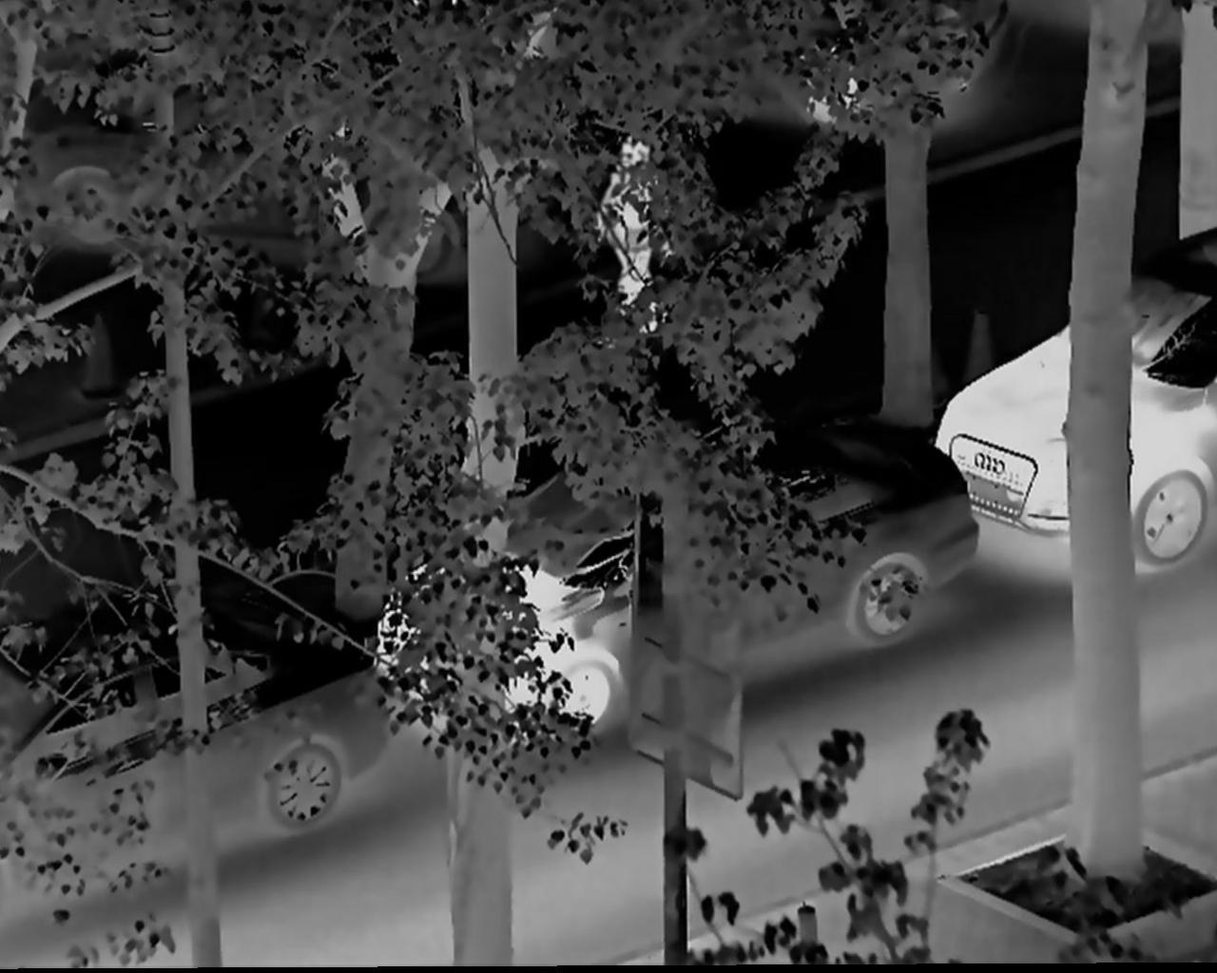person: (590, 121, 673, 308)
